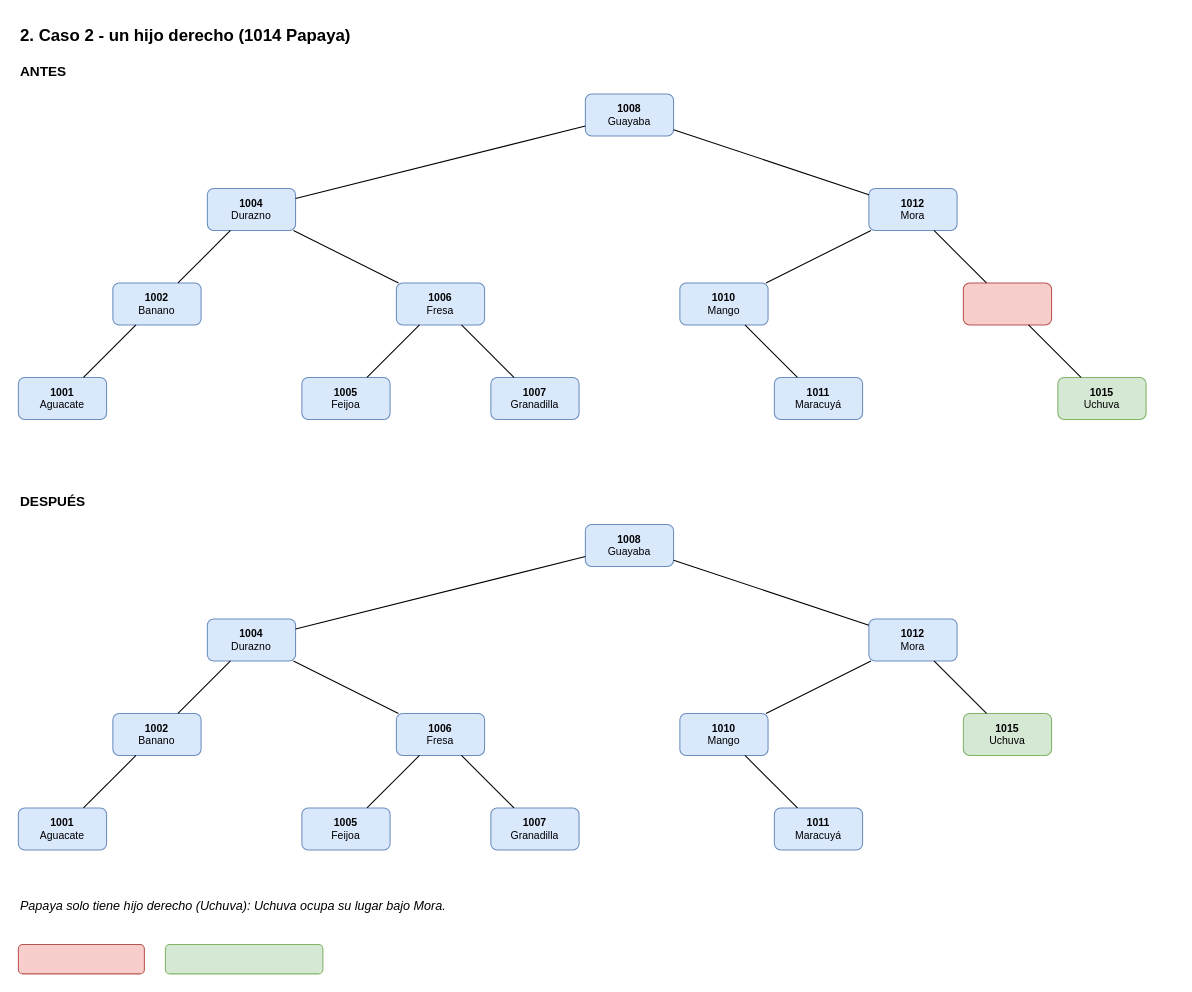
The diagram is 1192 pixels wide and 992 high, and some of its shapes have lost their labels. The box of each missing label's shape, as (x1, y1, x2, y2) in pixels:
1014 Papaya: (962, 282, 1052, 325)
Nodo a eliminar: (17, 943, 144, 974)
Nodo que cambia de lugar: (164, 943, 323, 974)
